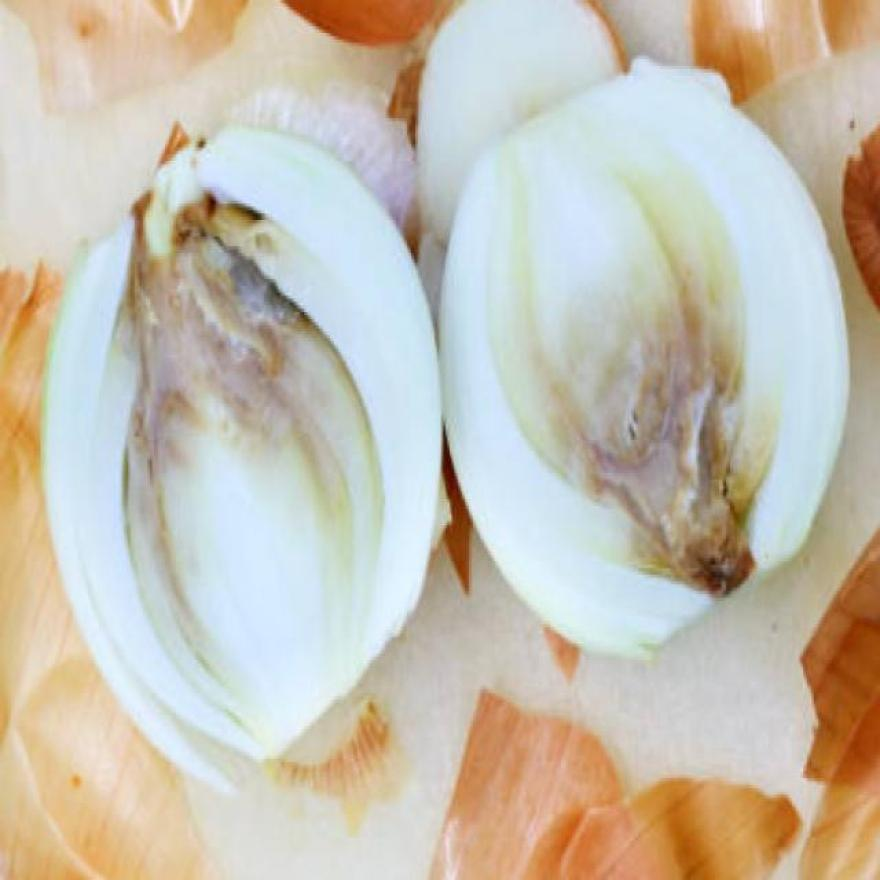Rotten: (135, 223, 326, 404), (614, 400, 738, 562)
